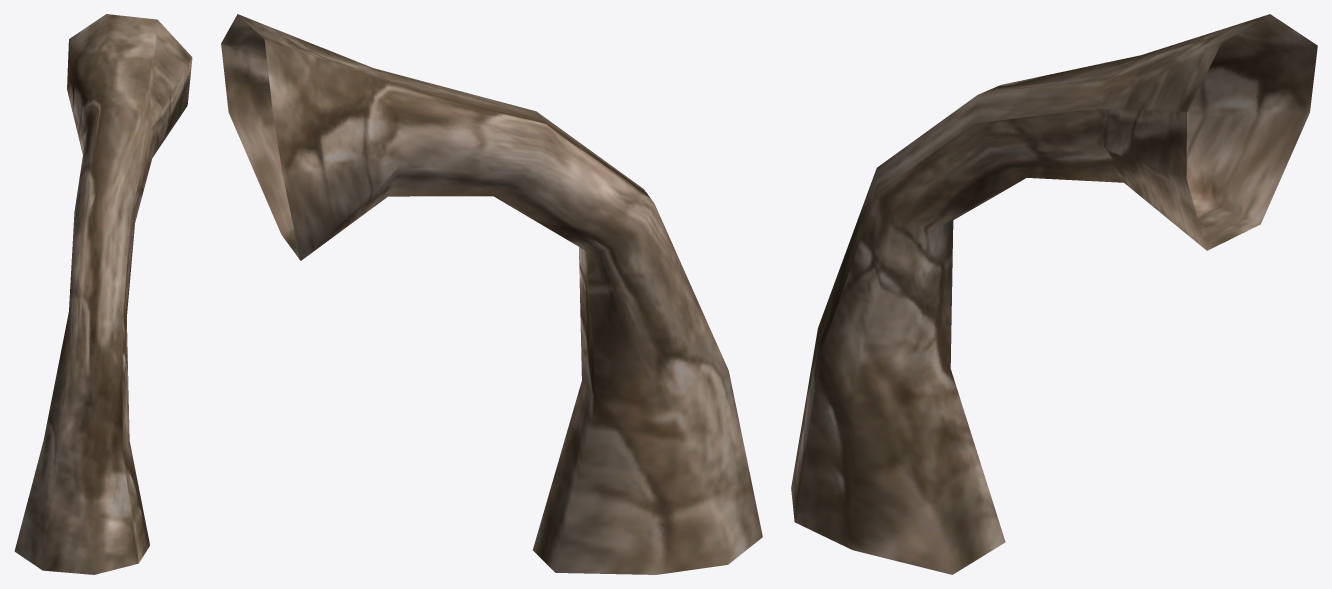
Rendered from OVERHILL_A_01_ARCH3.fbx.
The picture shows the model from 3 angles, left to right: view 1: azimuth 30°, elevation 25°; view 2: azimuth 150°, elevation 25°; view 3: azimuth 270°, elevation 25°; orthographic projection. The views are drawn at different scales.
Visible parts, largest first — view 1: OVERHILL_A_01_ARCH3; view 2: OVERHILL_A_01_ARCH3; view 3: OVERHILL_A_01_ARCH3.
Boxes of the visible parts, <box> form: OVERHILL_A_01_ARCH3: <box>14,14,192,574</box>; OVERHILL_A_01_ARCH3: <box>221,14,762,574</box>; OVERHILL_A_01_ARCH3: <box>791,14,1317,574</box>.
Size of the model in its own units: 27838 by 41458 by 31912.
Materials: 1 (1 with a texture image).
